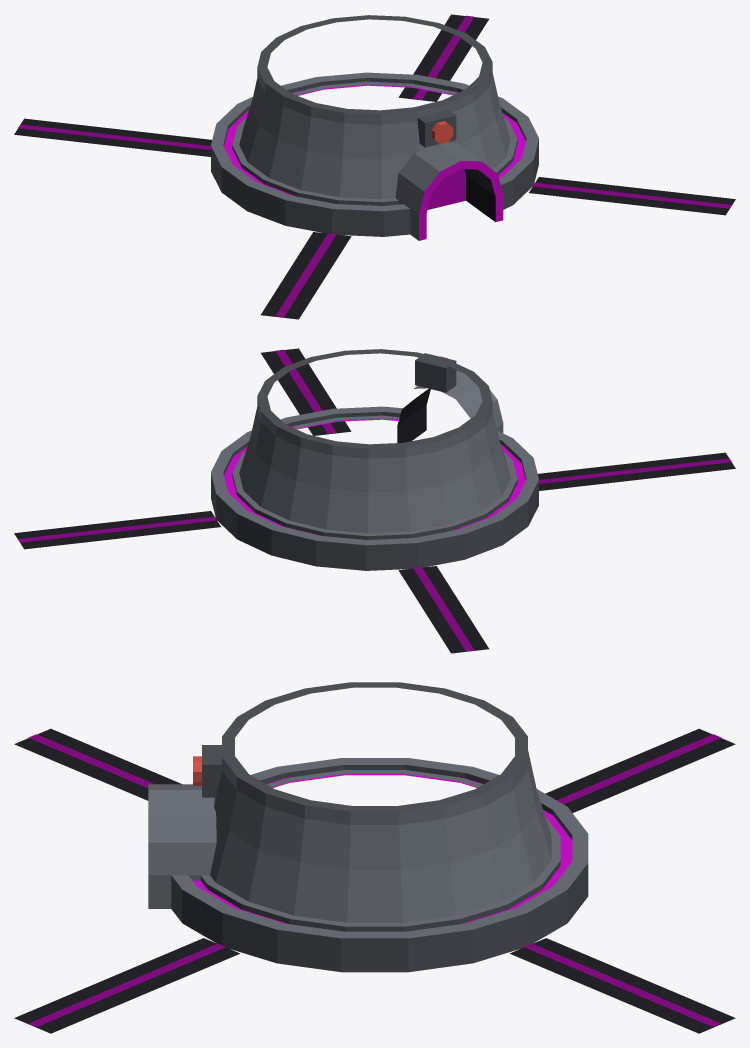
Rendered from tube_entrance_v1.glb.
The picture shows the model from 3 angles, top to bottom: view 1: azimuth 30°, elevation 25°; view 2: azimuth 150°, elevation 25°; view 3: azimuth 270°, elevation 25°; orthographic projection. The views are drawn at different scales.
Parts seen in each view (by area): view 1: Tube_Entrance; view 2: Tube_Entrance; view 3: Tube_Entrance.
Boxes of the visible parts, x1,y1,x2,y2 form: Tube_Entrance: [14, 14, 735, 319]; Tube_Entrance: [14, 348, 735, 653]; Tube_Entrance: [14, 682, 735, 1033].
Size of the model in its own units: 4.84 by 1 by 4.84.
